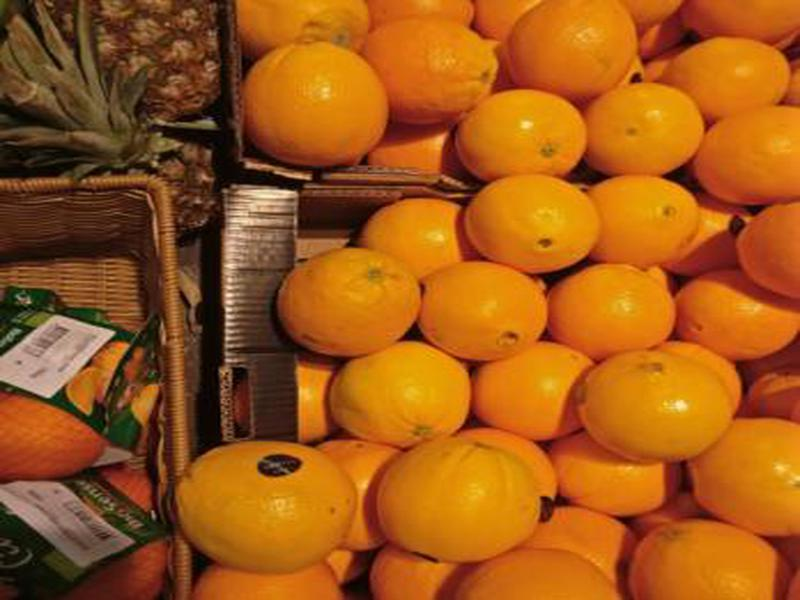orange: (159, 430, 364, 574), (374, 424, 541, 558), (232, 35, 389, 173), (574, 334, 738, 463), (668, 410, 800, 551), (270, 245, 423, 358), (470, 337, 625, 448), (506, 1, 656, 113), (316, 337, 474, 443), (394, 249, 559, 350), (445, 80, 593, 184), (626, 515, 796, 600), (468, 172, 608, 273), (663, 258, 800, 361), (539, 425, 685, 520), (342, 21, 503, 107), (572, 163, 710, 263), (549, 248, 680, 353), (578, 77, 707, 183), (443, 537, 640, 600), (682, 104, 800, 206), (350, 188, 484, 275), (653, 27, 791, 111), (220, 1, 371, 61), (724, 198, 800, 304), (180, 557, 364, 600)
